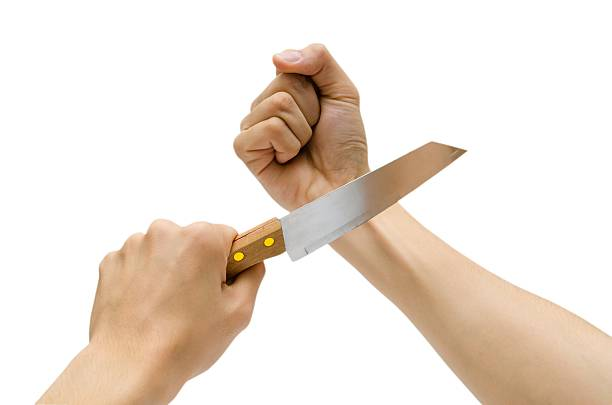knife: (225, 140, 467, 280)
